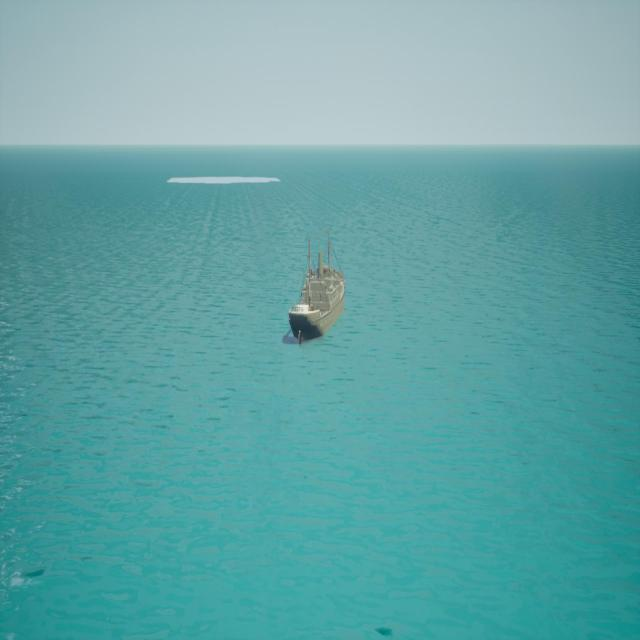fishing ship: (288, 232, 347, 348)
